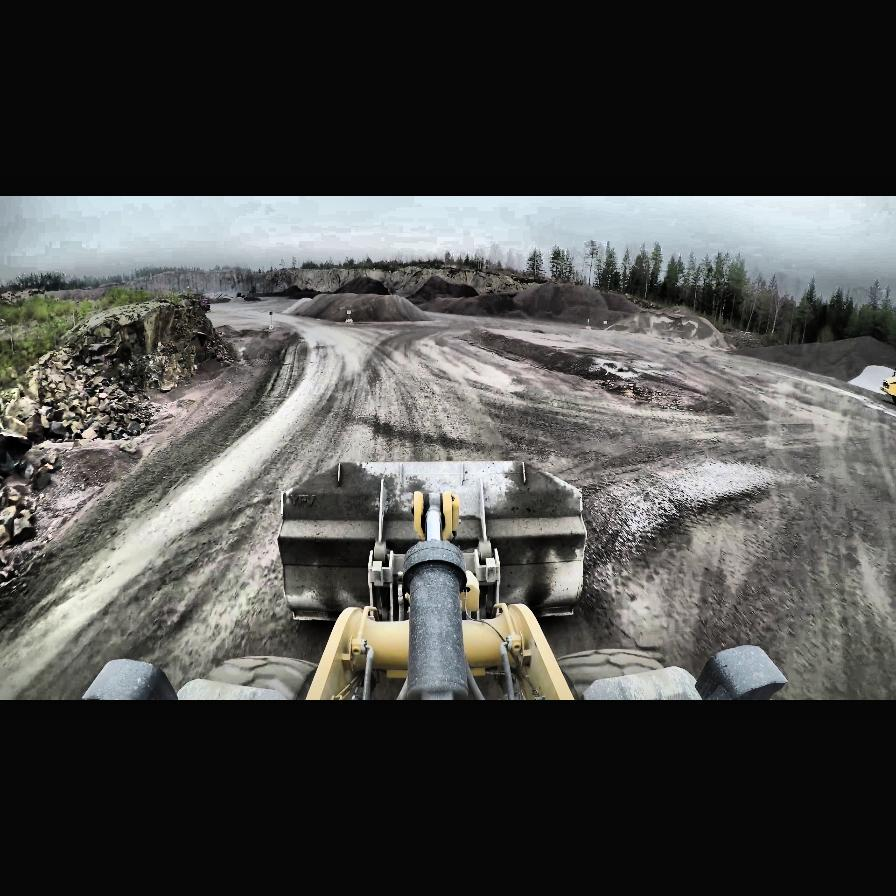anchor: (412, 492, 458, 542)
pile of gravel: (423, 279, 621, 325), (748, 336, 896, 388), (600, 301, 726, 349), (286, 292, 422, 322), (406, 275, 476, 301), (333, 275, 391, 295)
